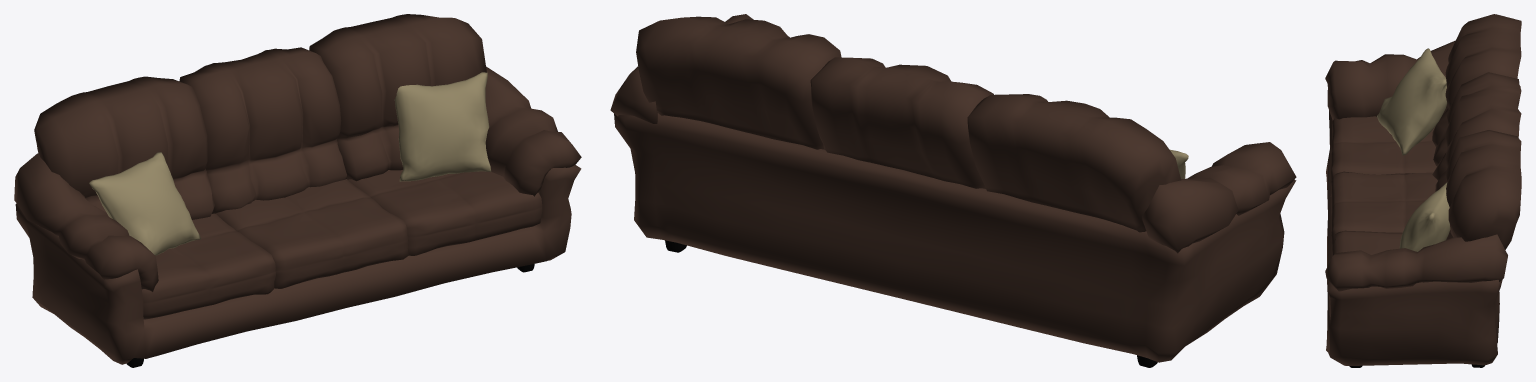
Rendered from Sofa.glb.
3 views of the same model, side by side, from view 1: azimuth 30°, elevation 25°; view 2: azimuth 150°, elevation 25°; view 3: azimuth 270°, elevation 25° (orthographic). The views are drawn at different scales.
Parts seen in each view (by area): view 1: Couch_-_cushion_-_Right_Cube.001; view 2: Couch_-_cushion_-_Right_Cube.001; view 3: Couch_-_cushion_-_Right_Cube.001.
Part boxes in pixels (box(x1,y1,x2,y2)): Couch_-_cushion_-_Right_Cube.001: box(14, 14, 581, 367); Couch_-_cushion_-_Right_Cube.001: box(610, 14, 1296, 367); Couch_-_cushion_-_Right_Cube.001: box(1325, 14, 1521, 367).
Bounding box in the file's own units: 2.82 × 1.11 × 1.07.
